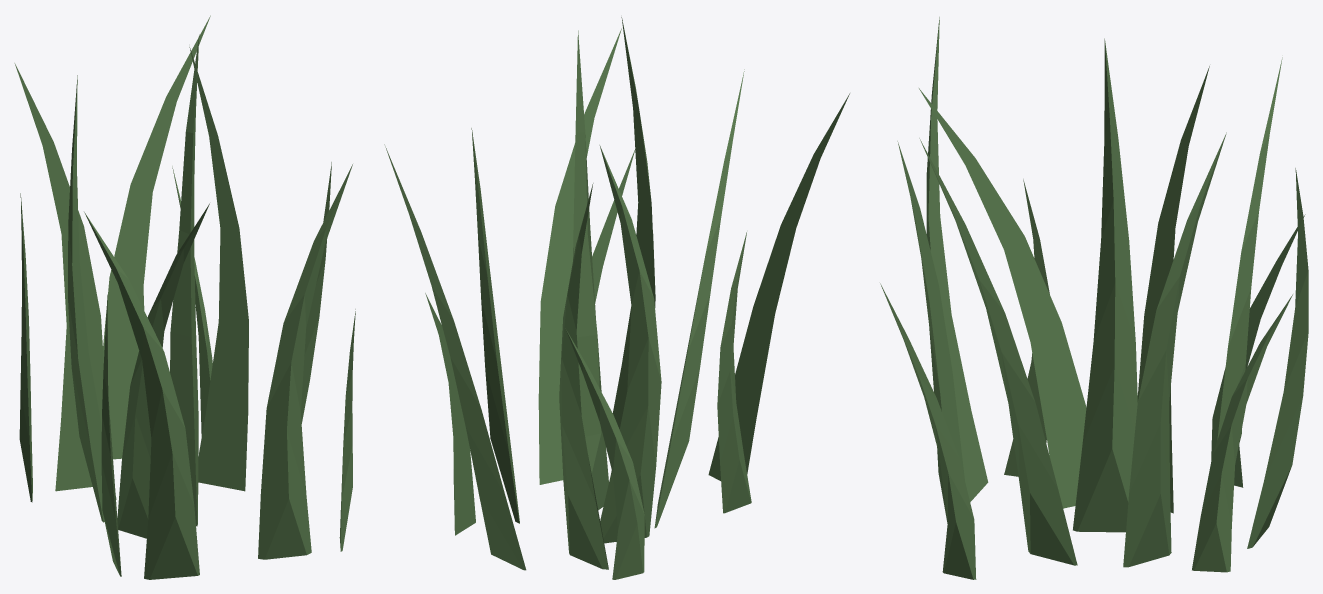
The model's file is Grass.fbx.
The picture shows the model from 3 angles, left to right: view 1: azimuth 30°, elevation 25°; view 2: azimuth 150°, elevation 25°; view 3: azimuth 270°, elevation 25°; orthographic projection. The views are drawn at different scales.
Parts seen in each view (by area): view 1: Grass_LOD_0; view 2: Grass_LOD_0; view 3: Grass_LOD_0.
Boxes of the visible parts, box(x1,y1,x2,y2) form: Grass_LOD_0: box(14, 15, 355, 579); Grass_LOD_0: box(384, 17, 849, 579); Grass_LOD_0: box(880, 17, 1308, 579).
Size of what is drawn, in the model's own units: 33.17 by 51 by 39.53.
